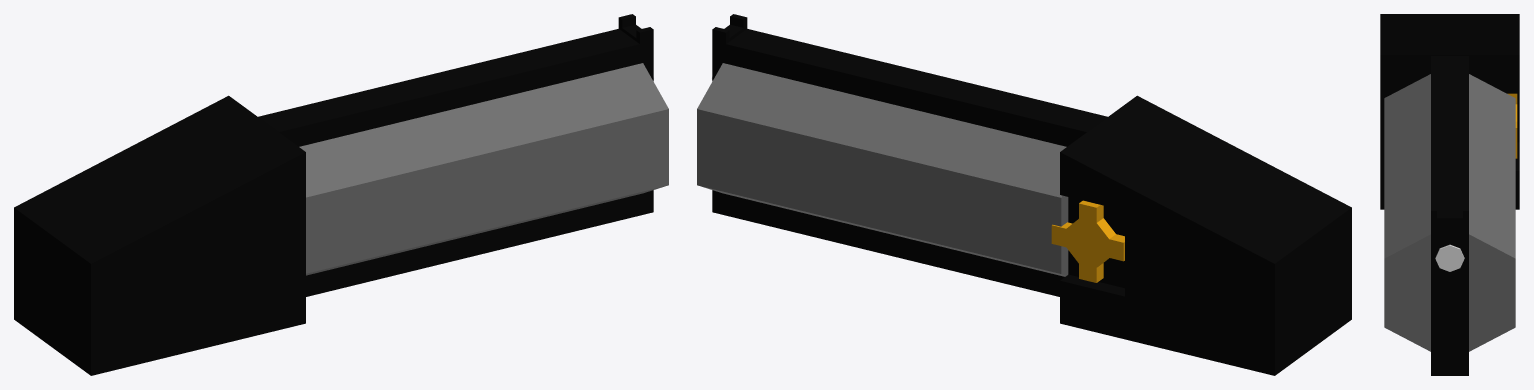
The model's file is pistol.fbx.
The picture shows the model from 3 angles, left to right: view 1: azimuth 30°, elevation 25°; view 2: azimuth 150°, elevation 25°; view 3: azimuth 270°, elevation 25°; orthographic projection. The views are drawn at different scales.
Visible parts, largest first — view 1: Cube, Cylinder, Ram-for-cylinder; view 2: Cube, Cylinder, Ram-for-cylinder, Cog; view 3: Cylinder, Ram-for-cylinder, Cube, Out, Cog.
Part boxes in pixels (box(x1,y1,x2,y2)): Cube: box(14, 95, 305, 375); Cylinder: box(299, 63, 668, 275); Ram-for-cylinder: box(258, 14, 653, 296); Cube: box(1060, 95, 1351, 375); Cylinder: box(697, 63, 1068, 276); Ram-for-cylinder: box(712, 14, 1107, 296); Cog: box(1051, 200, 1124, 282); Cylinder: box(1384, 74, 1515, 351); Ram-for-cylinder: box(1431, 56, 1468, 375); Cube: box(1380, 14, 1519, 209); Out: box(1435, 244, 1464, 271); Cog: box(1507, 93, 1517, 158).
Bounding box in the file's own units: 130 × 38.39 × 29.34.
